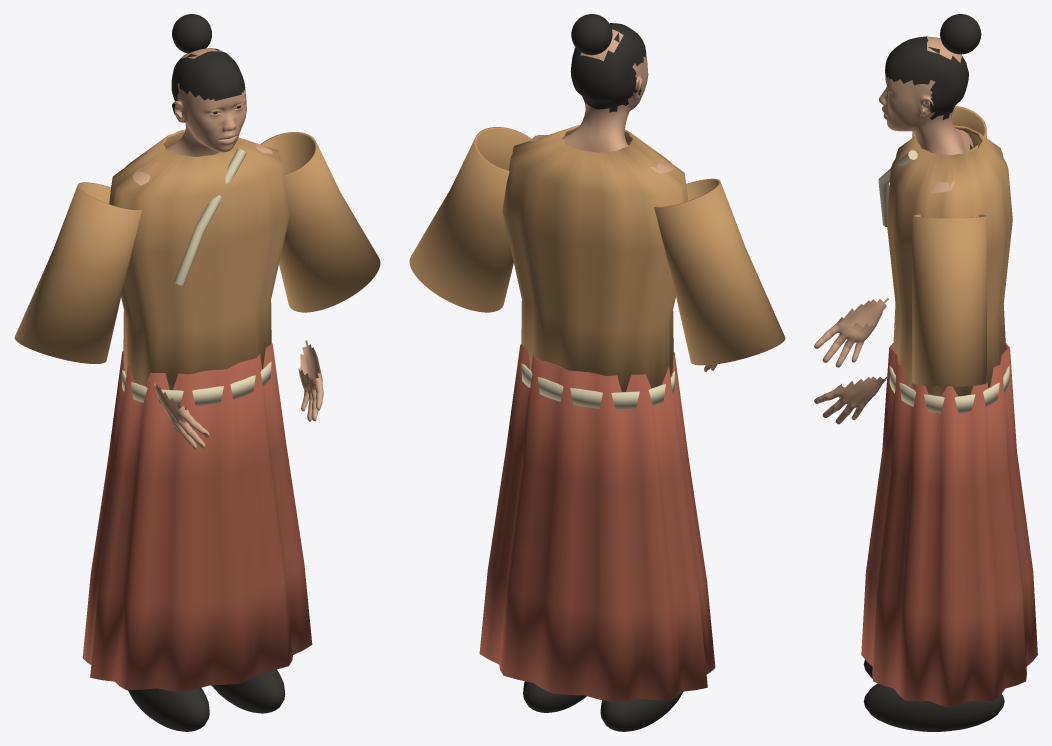
Rendered from resident-female.glb.
The picture shows the model from 3 angles, left to right: view 1: azimuth 30°, elevation 25°; view 2: azimuth 150°, elevation 25°; view 3: azimuth 270°, elevation 25°; orthographic projection. The views are drawn at different scales.
Visible parts, largest first — view 1: ruqun resident pleated skirt or robe, ruqun resident shaped upper garment, ruqun resident sleeve, ruqun resident sleeve.001, ruqun resident natural adult head neck and hands, ruqun resident fitted natural scalp hair, shoe.002, shoe.003, ruqun resident belt, diagonal collar seam.001, tied hair.001; view 2: ruqun resident pleated skirt or robe, ruqun resident shaped upper garment, ruqun resident sleeve, ruqun resident sleeve.001, ruqun resident fitted natural scalp hair, ruqun resident natural adult head neck and hands, ruqun resident belt, shoe.002, tied hair.001, shoe.003; view 3: ruqun resident pleated skirt or robe, ruqun resident shaped upper garment, ruqun resident sleeve.001, ruqun resident natural adult head neck and hands, shoe.003, ruqun resident fitted natural scalp hair, ruqun resident belt, tied hair.001, ruqun resident sleeve, diagonal collar seam.001.
Boxes of the visible parts, <box> form: ruqun resident pleated skirt or robe: <box>82,343,312,692</box>; ruqun resident shaped upper garment: <box>109,130,289,389</box>; ruqun resident sleeve: <box>14,182,142,363</box>; ruqun resident sleeve.001: <box>260,132,380,312</box>; ruqun resident natural adult head neck and hands: <box>132,48,323,449</box>; ruqun resident fitted natural scalp hair: <box>171,48,245,114</box>; shoe.002: <box>128,688,209,731</box>; shoe.003: <box>211,669,285,713</box>; ruqun resident belt: <box>122,361,271,406</box>; diagonal collar seam.001: <box>174,148,246,285</box>; tied hair.001: <box>172,14,211,53</box>; ruqun resident pleated skirt or robe: <box>479,344,715,702</box>; ruqun resident shaped upper garment: <box>502,125,688,391</box>; ruqun resident sleeve: <box>654,178,785,365</box>; ruqun resident sleeve.001: <box>409,127,531,312</box>; ruqun resident fitted natural scalp hair: <box>570,23,646,112</box>; ruqun resident natural adult head neck and hands: <box>531,29,717,371</box>; ruqun resident belt: <box>521,363,674,409</box>; shoe.002: <box>600,691,682,731</box>; tied hair.001: <box>571,14,612,55</box>; shoe.003: <box>523,681,586,712</box>; ruqun resident pleated skirt or robe: <box>861,343,1037,707</box>; ruqun resident shaped upper garment: <box>886,125,1012,396</box>; ruqun resident sleeve.001: <box>912,214,986,386</box>; ruqun resident natural adult head neck and hands: <box>814,36,973,424</box>; shoe.003: <box>863,683,1004,731</box>; ruqun resident fitted natural scalp hair: <box>885,36,968,119</box>; ruqun resident belt: <box>889,365,1009,413</box>; tied hair.001: <box>940,14,981,54</box>; ruqun resident sleeve: <box>912,106,986,151</box>; diagonal collar seam.001: <box>878,150,917,226</box>.
Bounding box in the file's own units: 0.9505 × 1.74 × 0.5082.
